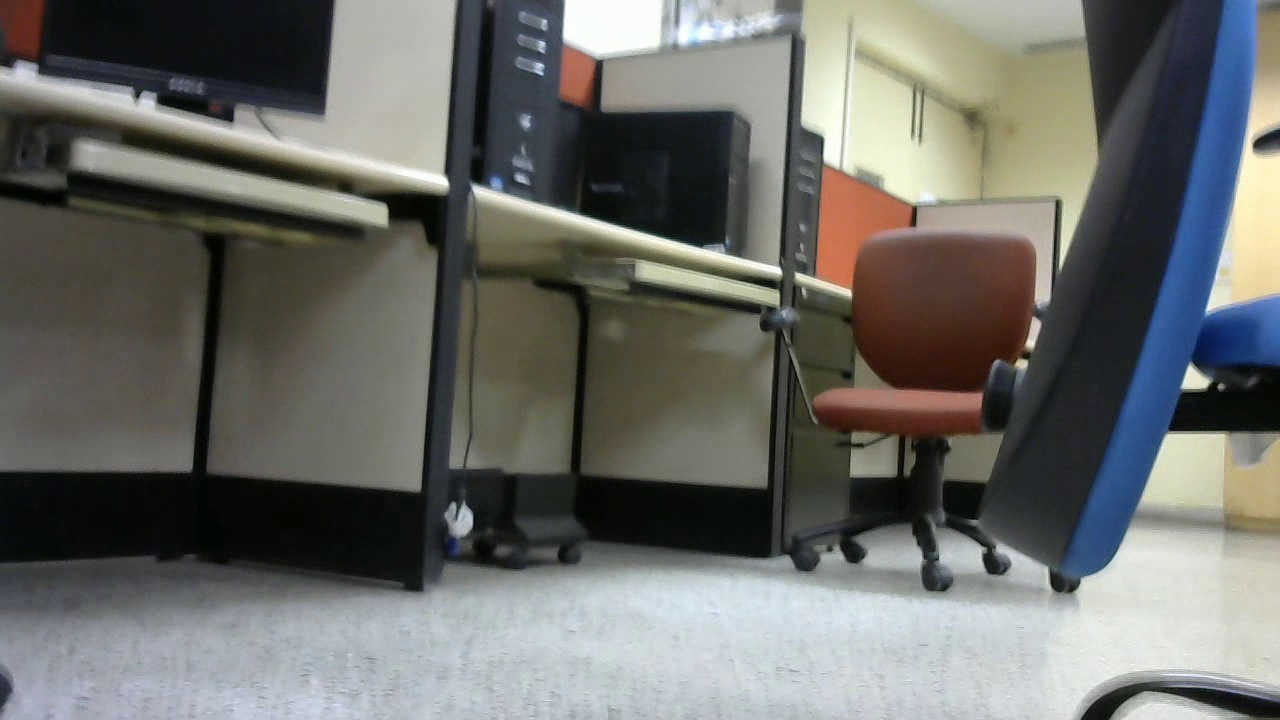chair: (752, 228, 1070, 595)
